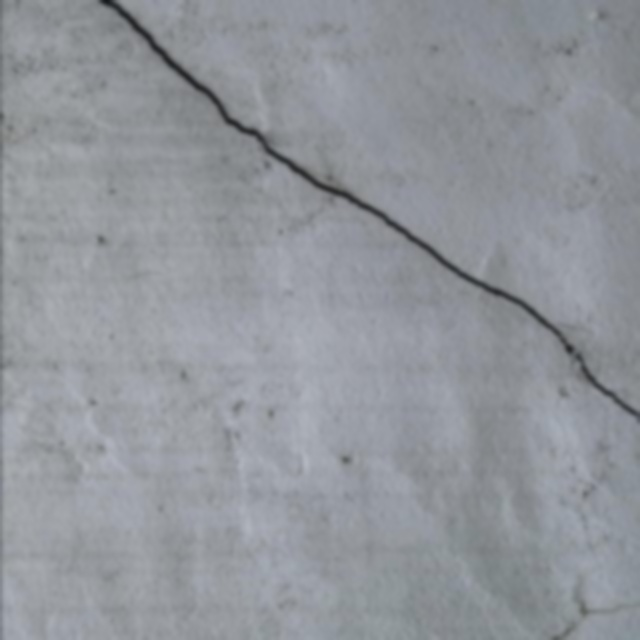SurfaceCrack: (4, 0, 640, 622)
